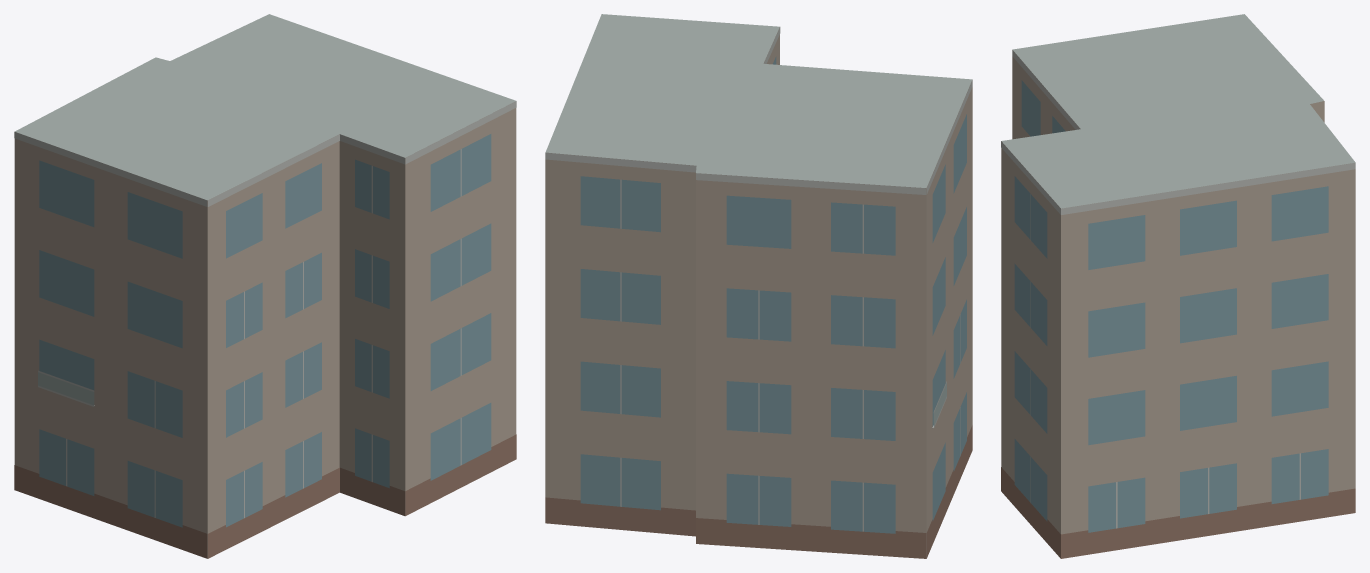
The model's file is survey-upis-32934783.glb.
The picture shows the model from 3 angles, left to right: view 1: azimuth 30°, elevation 25°; view 2: azimuth 150°, elevation 25°; view 3: azimuth 270°, elevation 25°; orthographic projection. The views are drawn at different scales.
Visible parts, largest first — view 1: survey-upis-32934783.tmp; view 2: survey-upis-32934783.tmp; view 3: survey-upis-32934783.tmp.
Part boxes in pixels (bbox=[...]): survey-upis-32934783.tmp: bbox=[14, 14, 516, 558]; survey-upis-32934783.tmp: bbox=[545, 14, 972, 558]; survey-upis-32934783.tmp: bbox=[1001, 14, 1355, 558].
Size of the model in its own units: 15.5 by 13 by 11.94.
